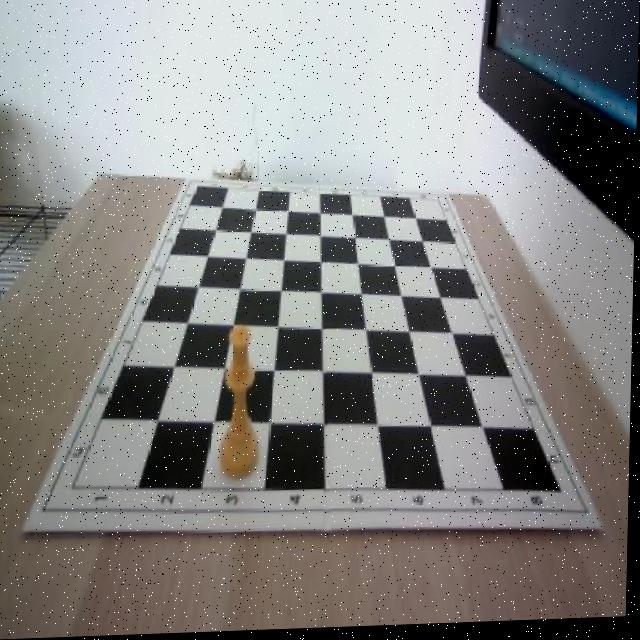white-pawn: (220, 326, 264, 480)
